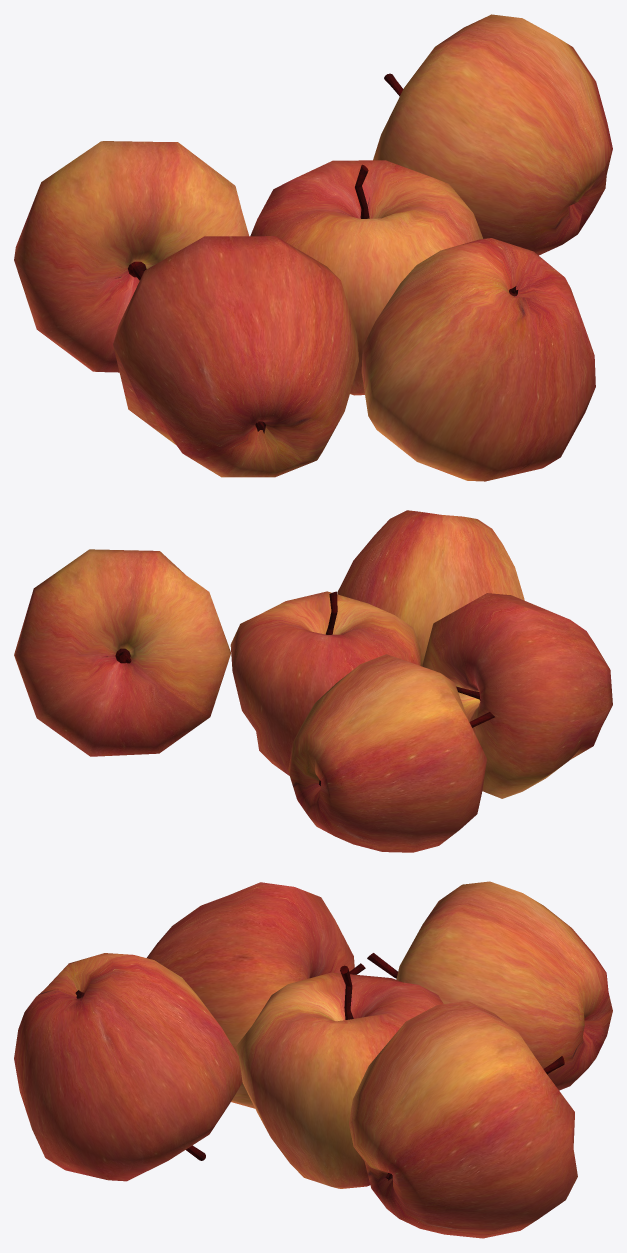
The model's file is apples.glb.
3 views of the same model, one above another, from view 1: azimuth 30°, elevation 25°; view 2: azimuth 150°, elevation 25°; view 3: azimuth 270°, elevation 25° (orthographic). The views are drawn at different scales.
Visible parts, largest first — view 1: pSphere4, pSphere6, pSphere7, pSphere5, pSphere3; view 2: pSphere7, pSphere5, pSphere4, pSphere3, pSphere6; view 3: pSphere7, pSphere6, pSphere5, pSphere3, pSphere4.
Part boxes in pixels (box(x1,y1,x2,y2)): pSphere4: box(113, 236, 358, 477); pSphere6: box(361, 238, 595, 481); pSphere7: box(373, 14, 612, 255); pSphere5: box(14, 141, 248, 372); pSphere3: box(250, 160, 483, 395); pSphere7: box(14, 549, 230, 756); pSphere5: box(288, 654, 494, 852); pSphere4: box(422, 593, 612, 798); pSphere3: box(230, 591, 420, 775); pSphere6: box(337, 510, 524, 666); pSphere7: box(349, 1001, 577, 1238); pSphere6: box(14, 953, 242, 1181); pSphere5: box(367, 881, 612, 1090); pSphere3: box(236, 965, 443, 1188); pSphere4: box(147, 882, 365, 1108).
Size of the model in its own units: 0.0906 by 0.04 by 0.0877.
Materials: 2 (2 with a texture image).
